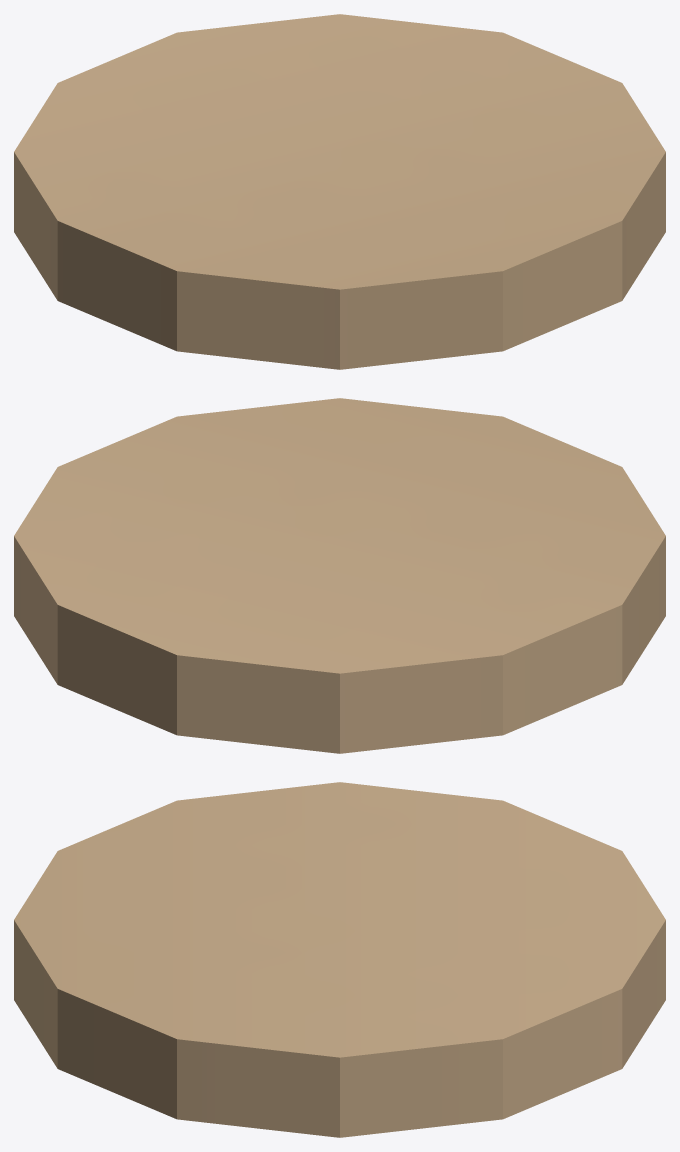
File: Zhuanpan_up.fbx
3 renders of one model, top to bottom at view 1: azimuth 30°, elevation 25°; view 2: azimuth 150°, elevation 25°; view 3: azimuth 270°, elevation 25°, orthographic.
Visible parts, largest first — view 1: 圆环.003; view 2: 圆环.003; view 3: 圆环.003.
Boxes of the visible parts, left/top/right/bottom form: 圆环.003: left=14, top=14, right=665, bottom=369; 圆环.003: left=14, top=398, right=665, bottom=753; 圆环.003: left=14, top=782, right=665, bottom=1137.
Bounding box in the file's own units: 18.68 × 2.54 × 18.68.
